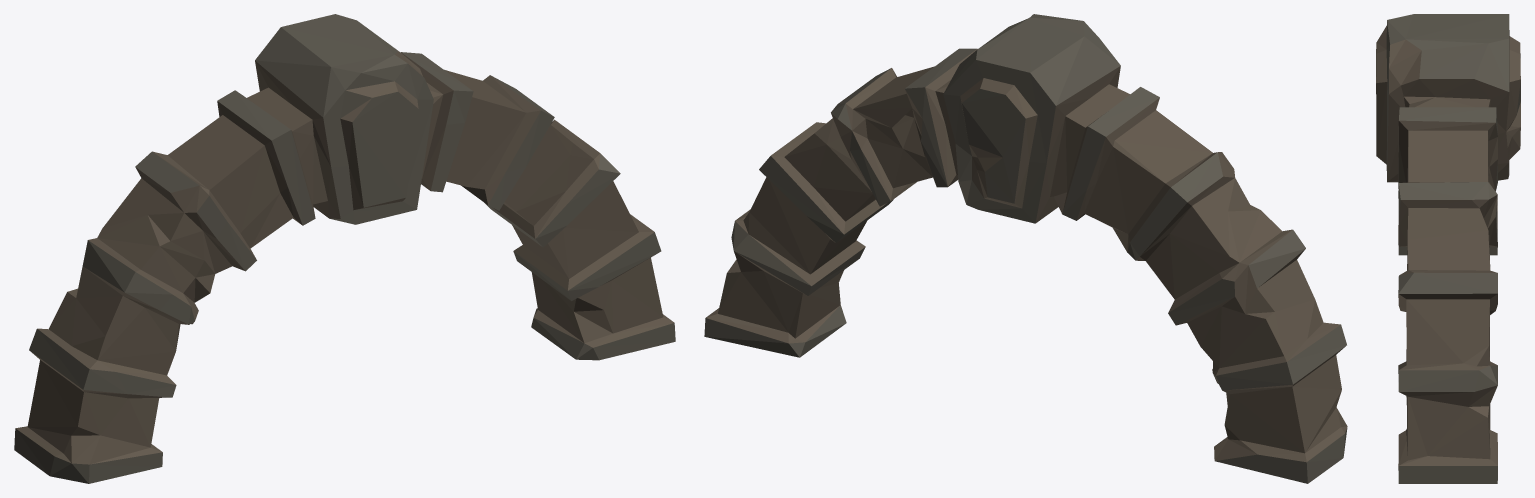
The model's file is synty-prop-pillar-arch-01.gltf.
3 views of the same model, side by side, from view 1: azimuth 30°, elevation 25°; view 2: azimuth 150°, elevation 25°; view 3: azimuth 270°, elevation 25° (orthographic). The views are drawn at different scales.
Visible parts, largest first — view 1: SM_Prop_Pillar_Arch_01; view 2: SM_Prop_Pillar_Arch_01; view 3: SM_Prop_Pillar_Arch_01.
Boxes of the visible parts, x1,y1,x2,y2 form: SM_Prop_Pillar_Arch_01: (14, 14, 675, 483); SM_Prop_Pillar_Arch_01: (704, 14, 1347, 483); SM_Prop_Pillar_Arch_01: (1376, 14, 1520, 483).
Size of the model in its own units: 2.57 by 1.42 by 0.5813.
1 material, 1 textured.
